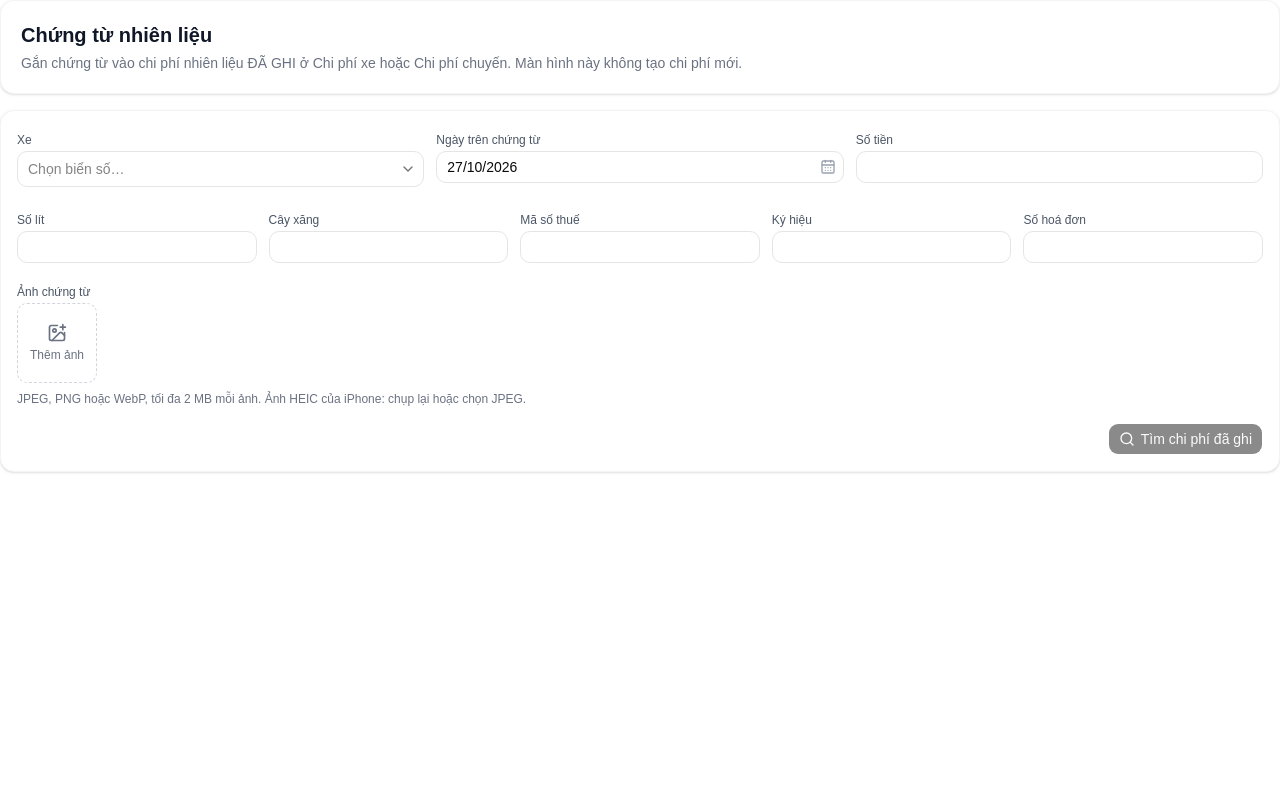
Test: FuelReceiptPage › ★ searches with the receipt as typed — blanks left out — and with nothing found offers NO way to create a cost
The width and height of the screenshot is (1280, 800).
Expected: the button "Tìm chi phí đã ghi" is disabled, 1108,423 -> 1263,455
Press the mouse on the dropdown labelled "Xe" at (221, 169), box 17,151 -> 424,187
Press the mouse on the dropdown labelled "Xe" at (221, 169), box 17,151 -> 424,187
Type "51D" into the dropdown labelled "Xe" at (221, 169), box 17,151 -> 424,187
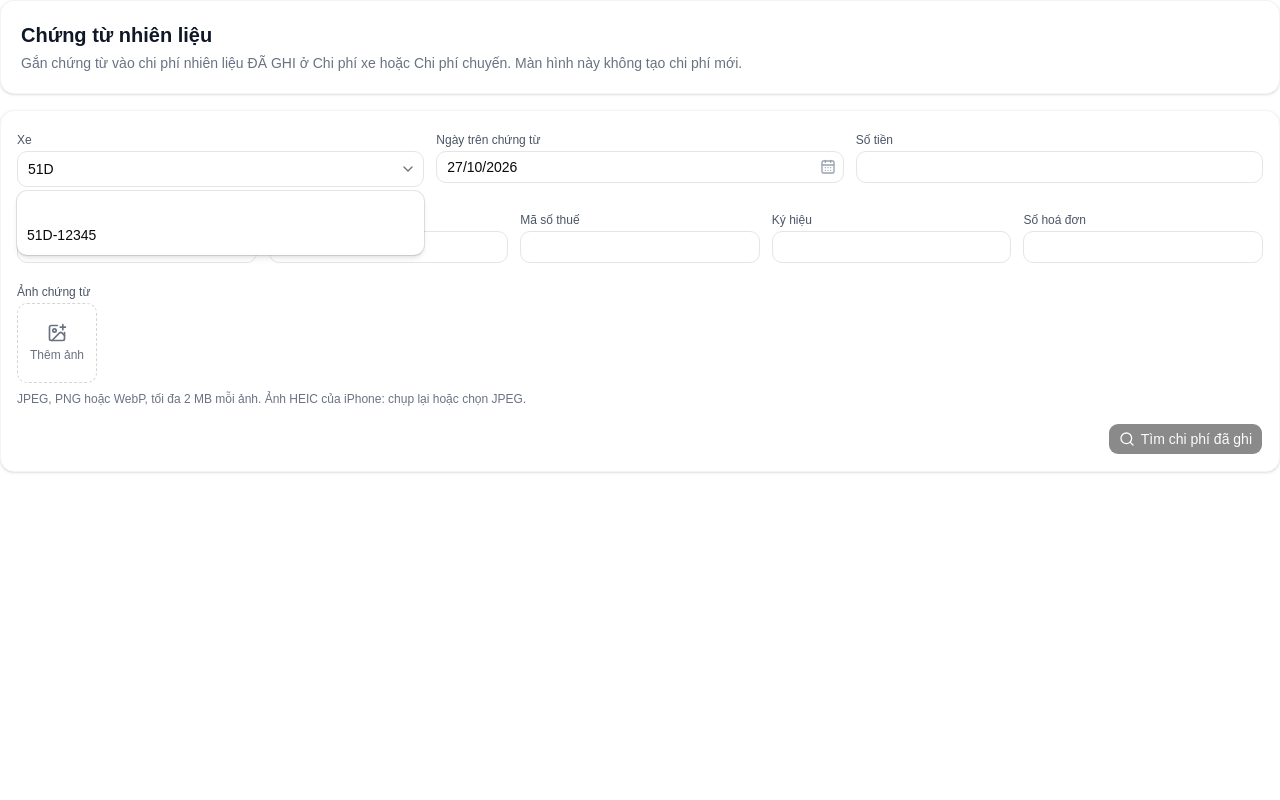
Click the option "51D-12345" at (62, 235), box 27,227 -> 96,243
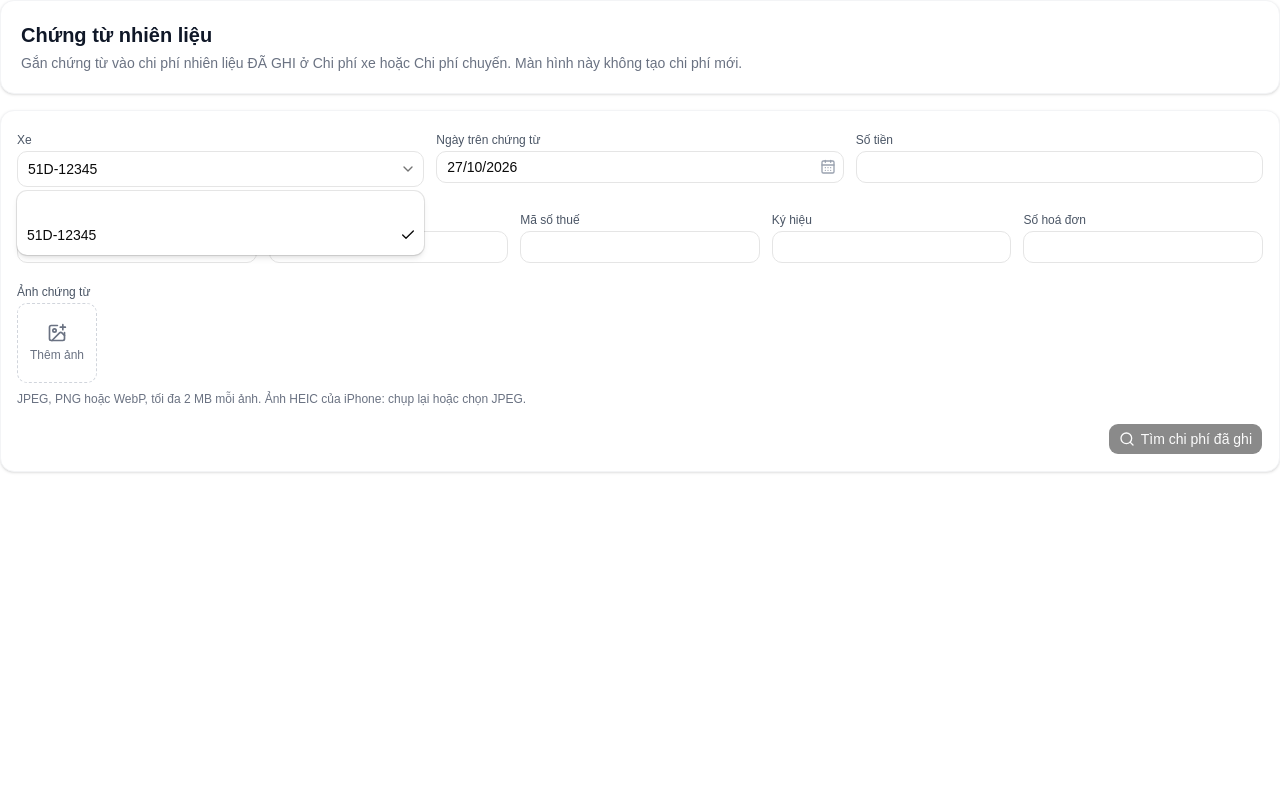
Type "772460" into the field labelled "Số tiền" at (1059, 167), box 856,151 -> 1263,183
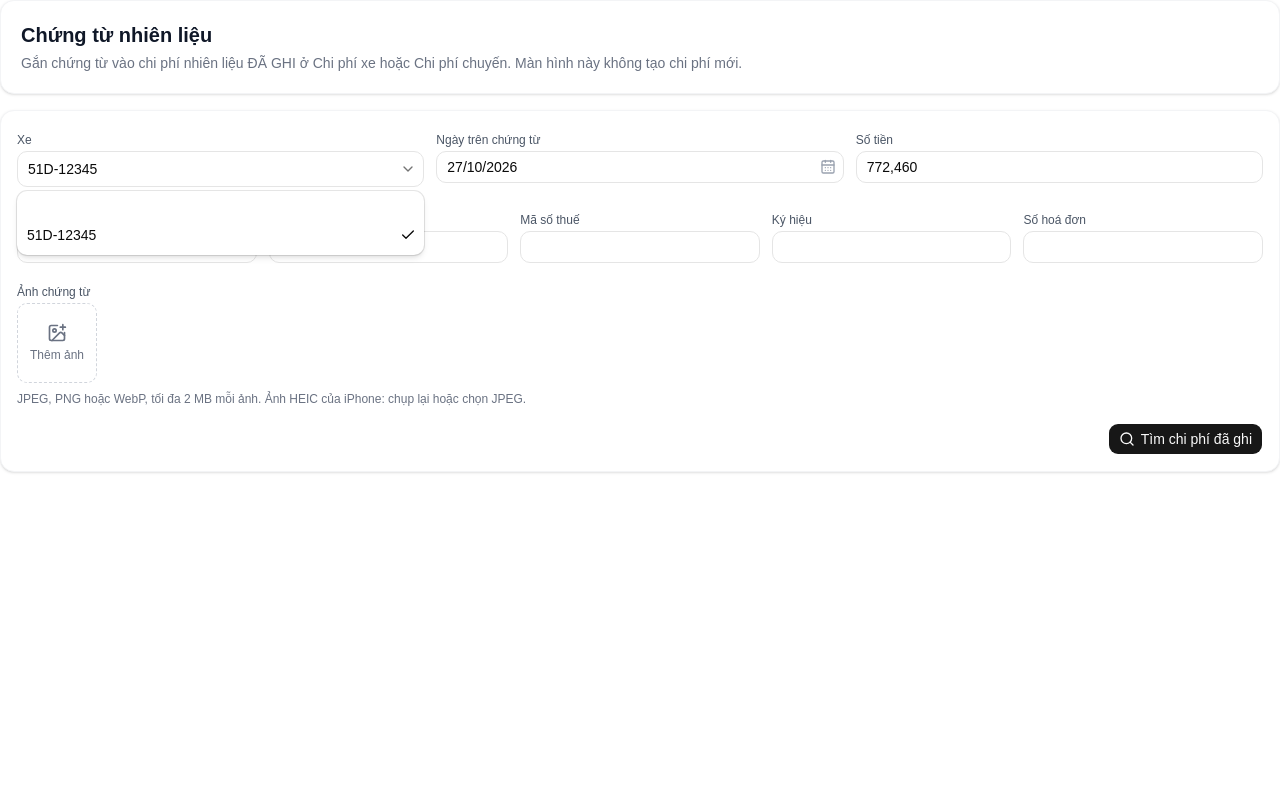
Type " 0001234 " into the field labelled "Số hoá đơn" at (1143, 247), box 1023,231 -> 1263,263
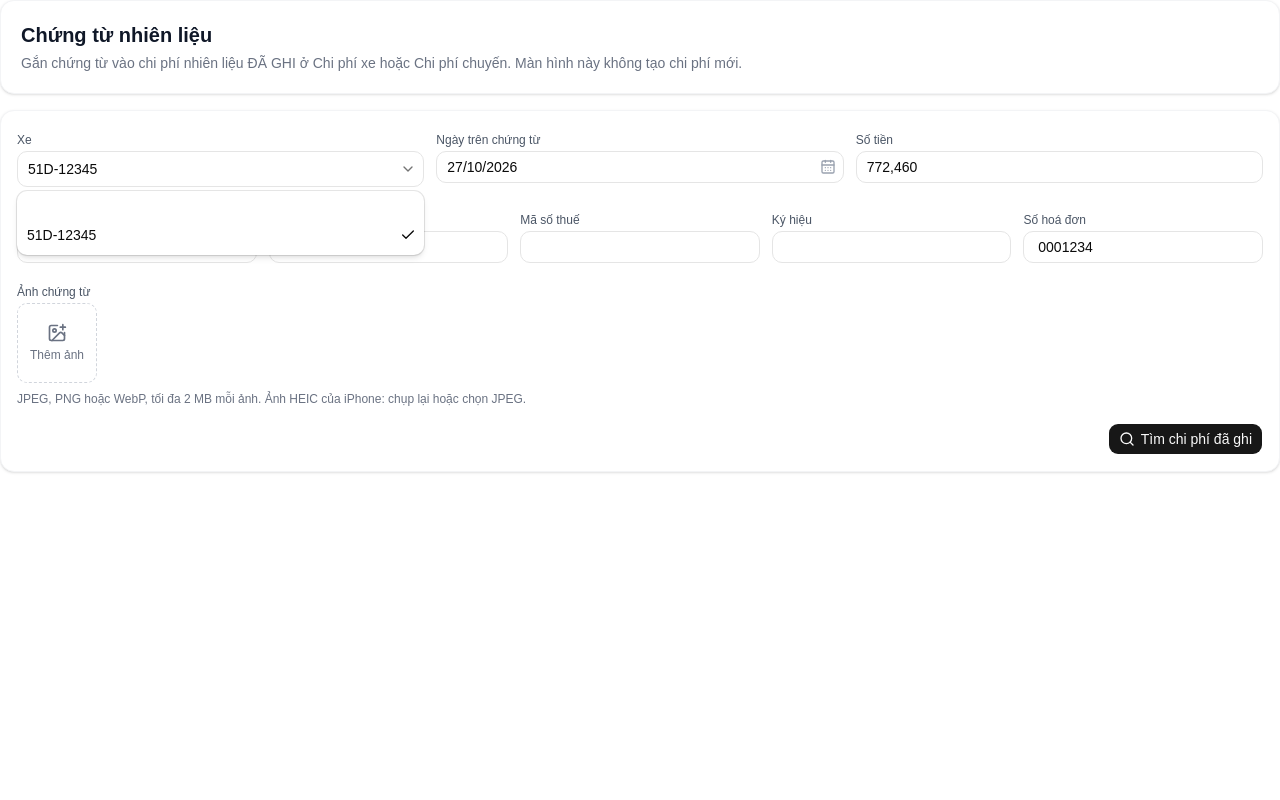
Click the button "Tìm chi phí đã ghi" at (1185, 439), box 1108,423 -> 1263,455
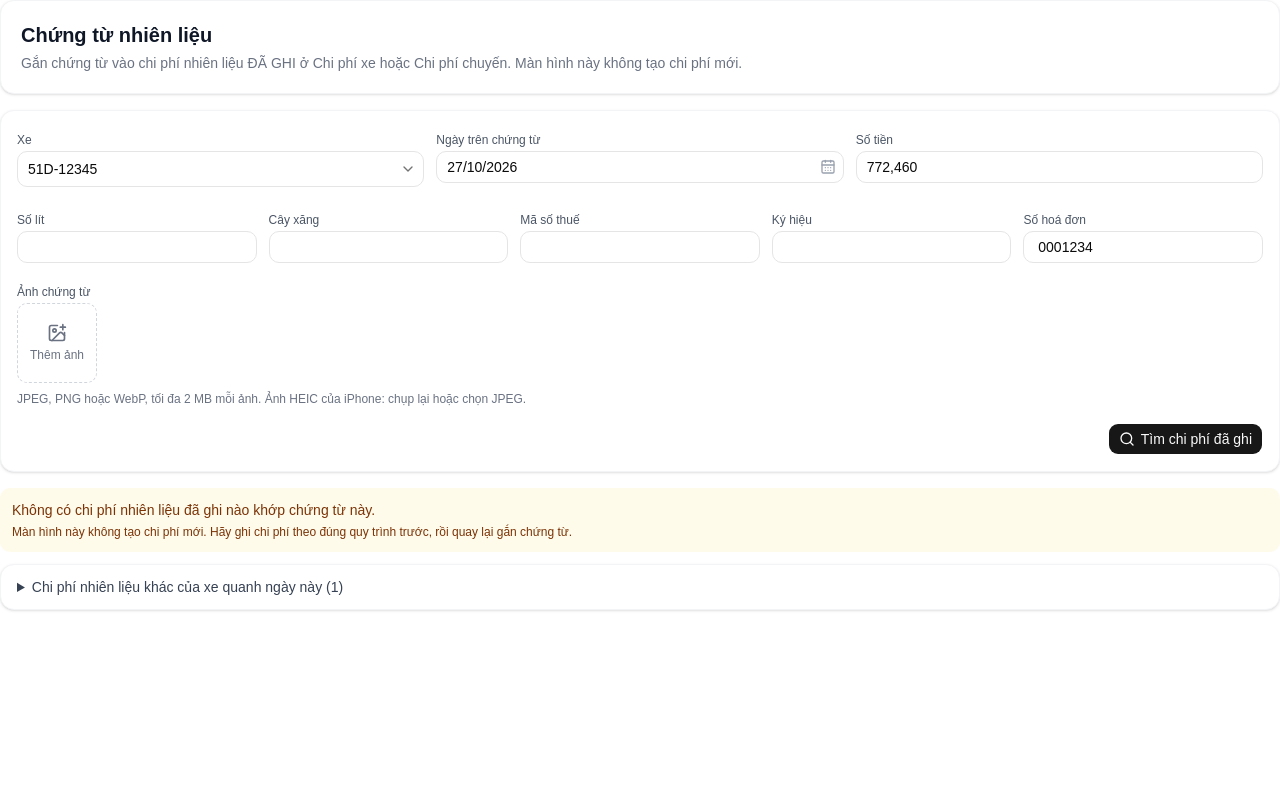
Expected: the text "Không có chi phí nhiên liệu đã ghi nào khớp chứng từ này." is shown, 12,502 -> 375,518
Expected: the text "Hãy ghi chi phí theo đúng quy trình trước" is shown, 12,525 -> 572,539
